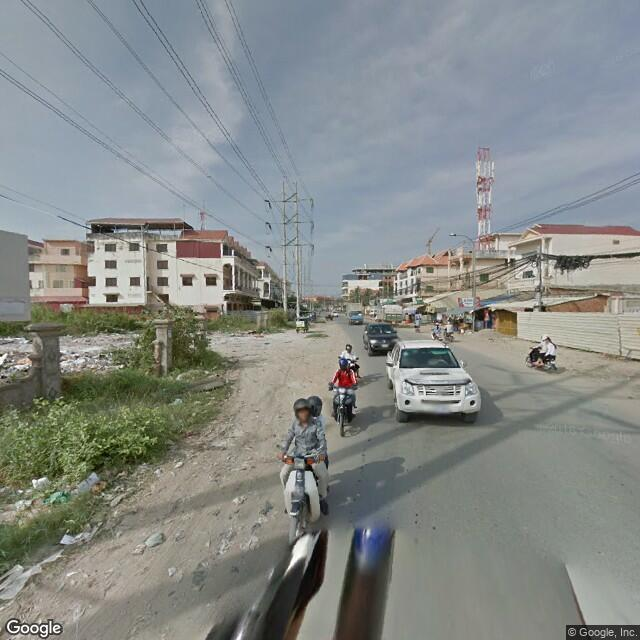litter: (1, 557, 59, 607), (18, 475, 74, 515), (56, 527, 109, 552)
